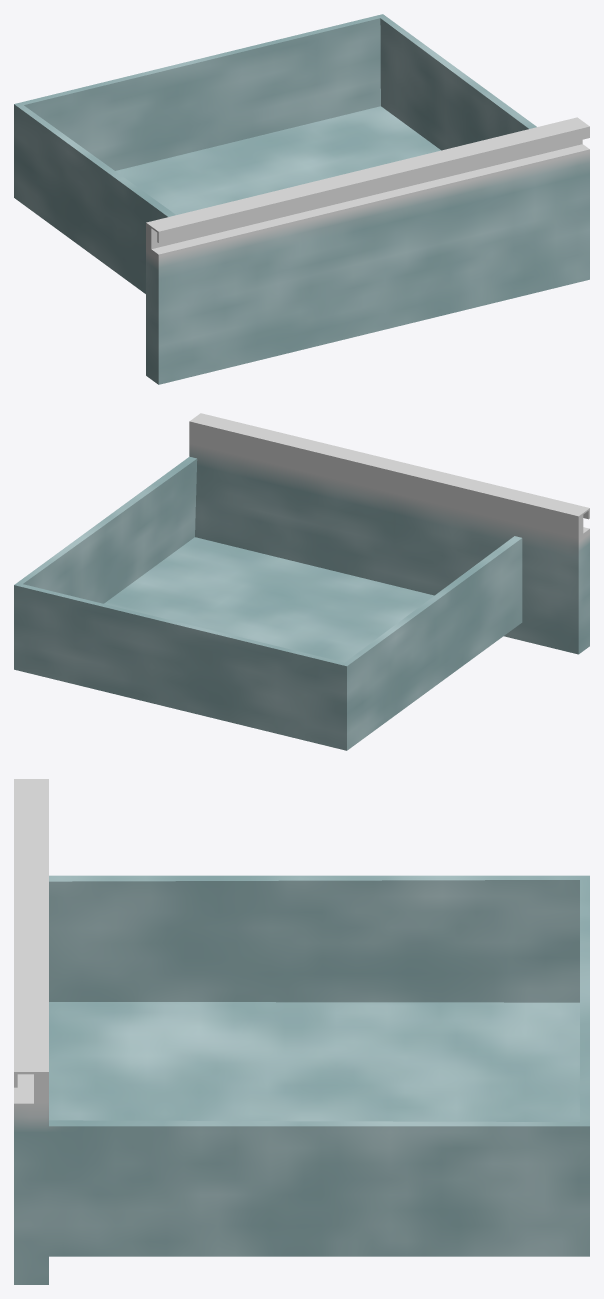
The model's file is lower_shelf_right_extendable_door.fbx.
The picture shows the model from 3 angles, top to bottom: view 1: azimuth 30°, elevation 25°; view 2: azimuth 150°, elevation 25°; view 3: azimuth 270°, elevation 25°; orthographic projection. The views are drawn at different scales.
Parts seen in each view (by area): view 1: lower_shelf_right_extendable_door_Baked; view 2: lower_shelf_right_extendable_door_Baked; view 3: lower_shelf_right_extendable_door_Baked.
Part boxes in pixels (<box>): lower_shelf_right_extendable_door_Baked: <box>14,14,589,384</box>; lower_shelf_right_extendable_door_Baked: <box>14,413,589,750</box>; lower_shelf_right_extendable_door_Baked: <box>14,779,589,1284</box>.
Size of the model in its own units: 39.52 by 13.41 by 32.85.
